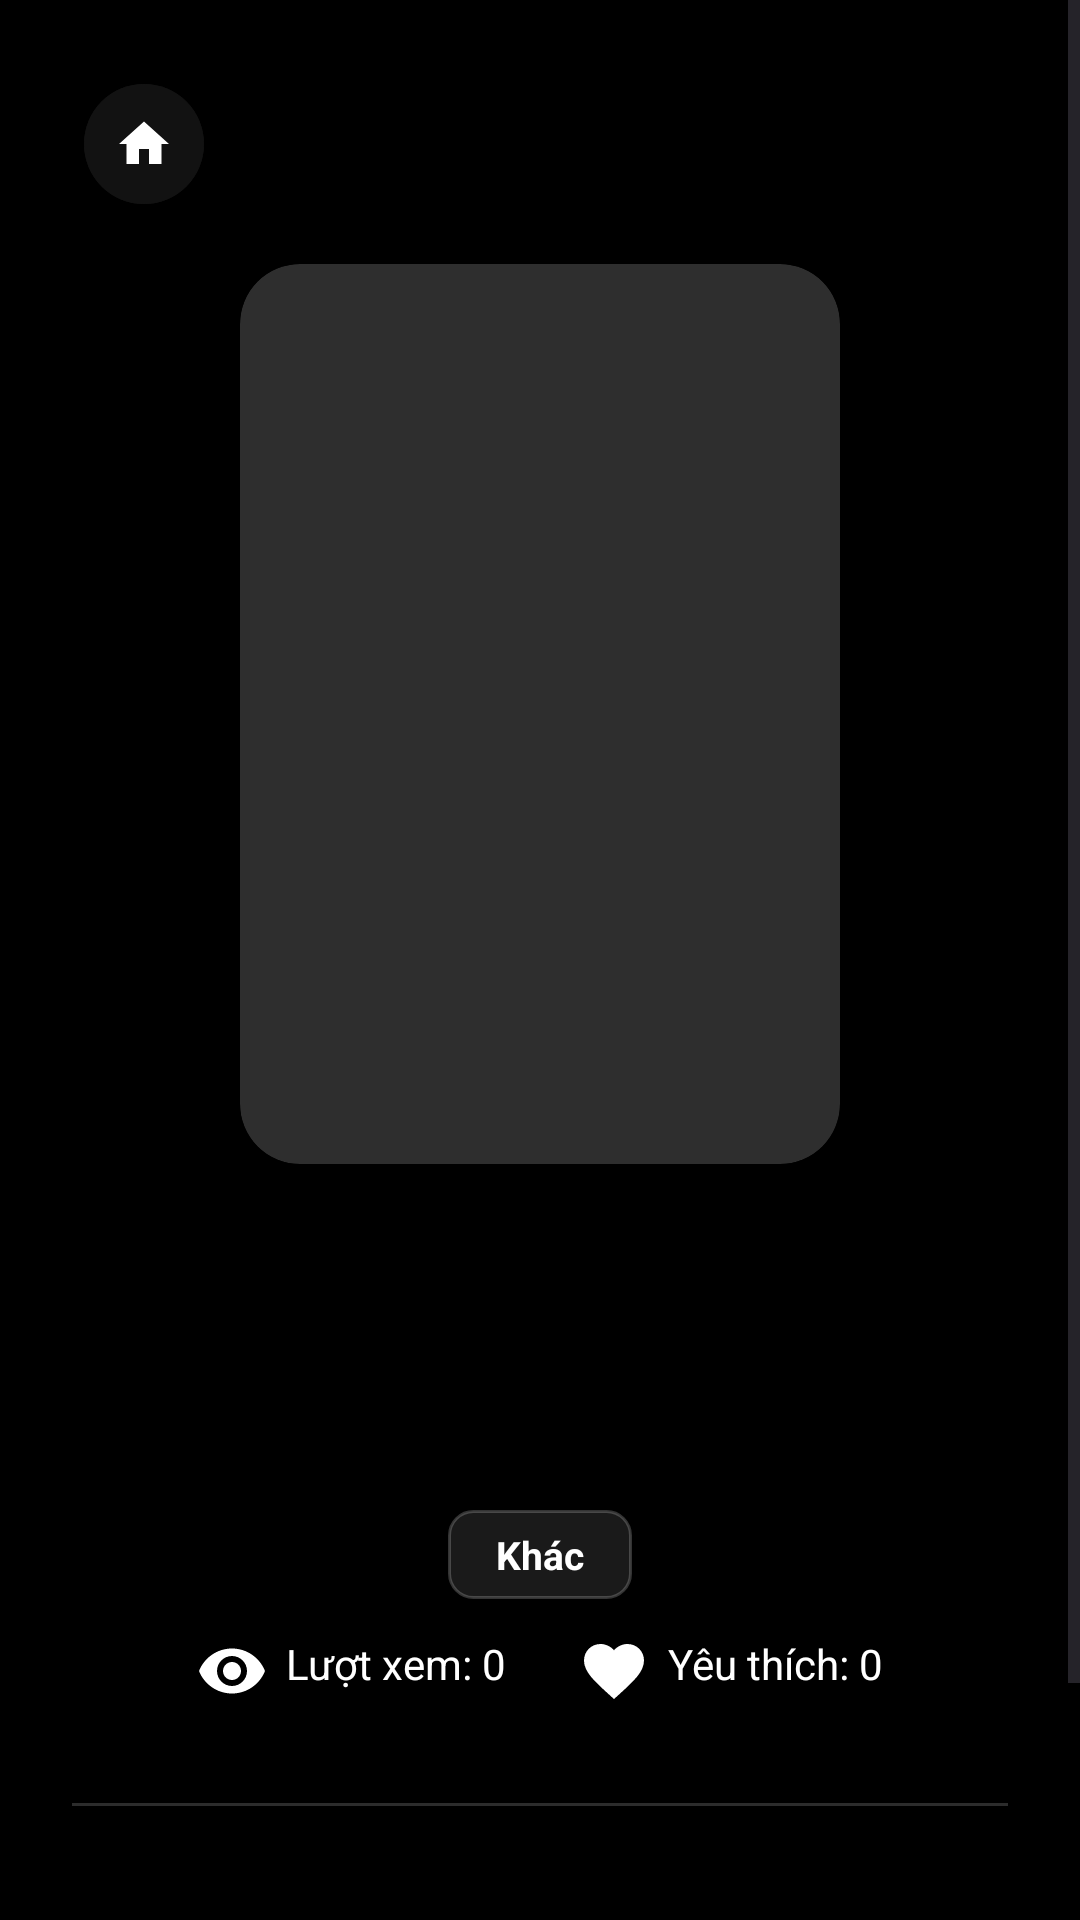

Named icons in this screenshot (1080w x 1920h) and their bounding boxes, (x1, y1, x2, y2):
home: (119, 121, 169, 164)
